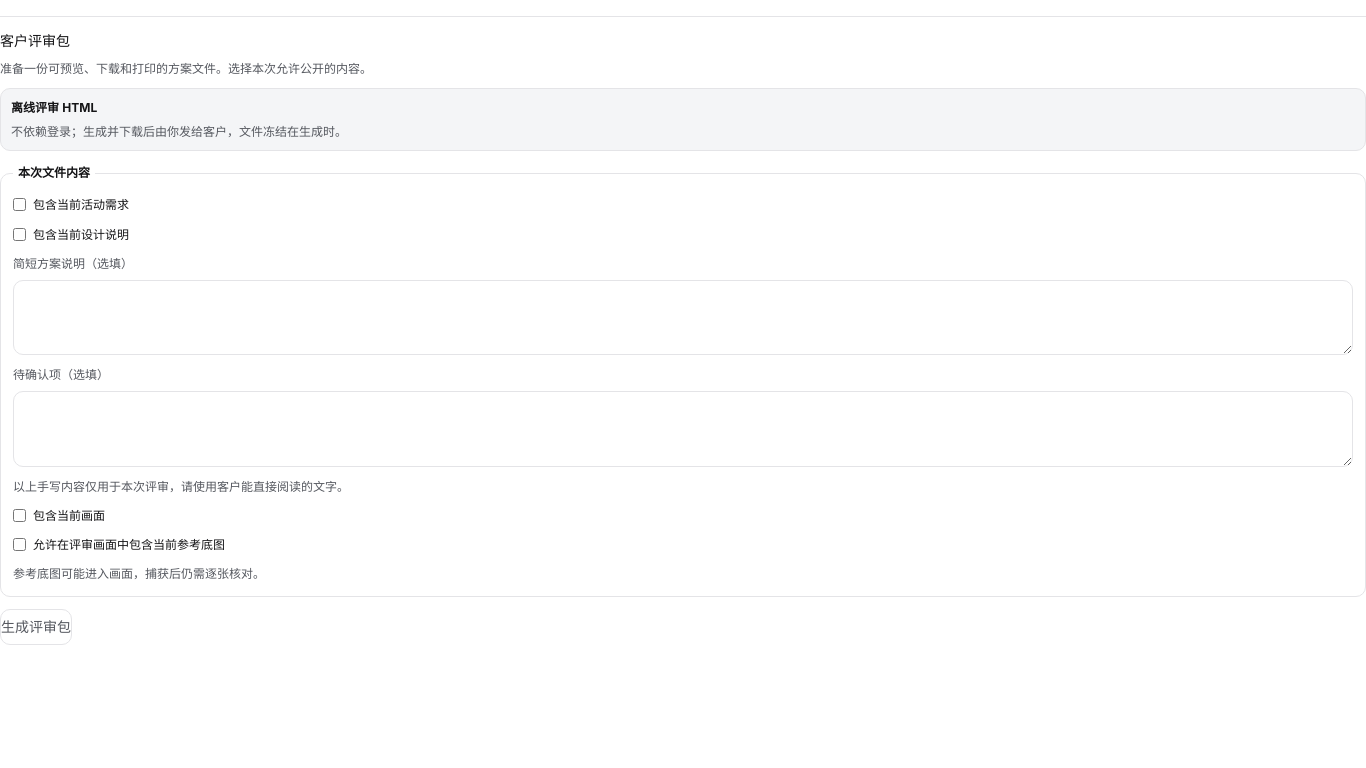
it: independent customer review panel › invalidates the old file when summary changes
Click the button "生成评审包".
click(36, 627)  # box left=0, top=609, right=72, bottom=645
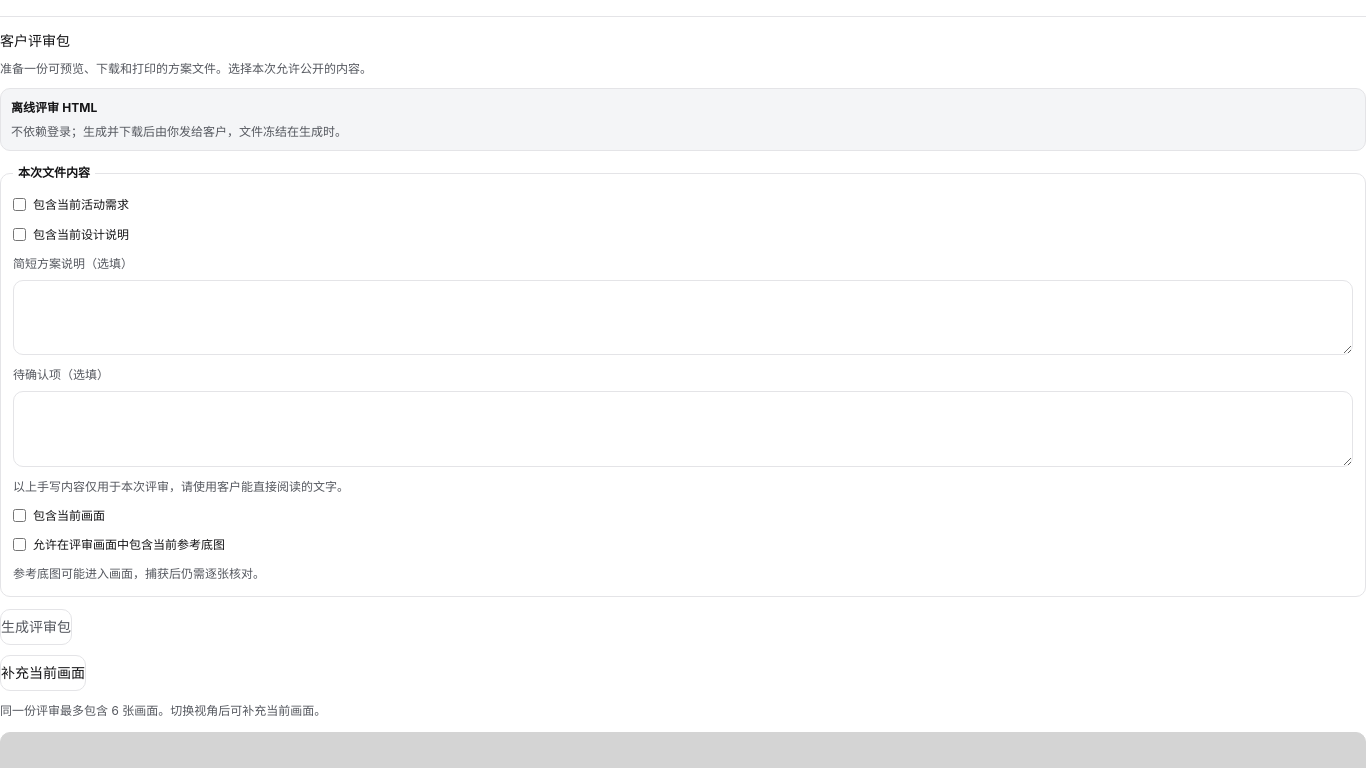
Type "新内容" into the text box labelled "简短方案说明（选填）".
click(683, 318); type("新内容")  # box left=13, top=280, right=1353, bottom=355
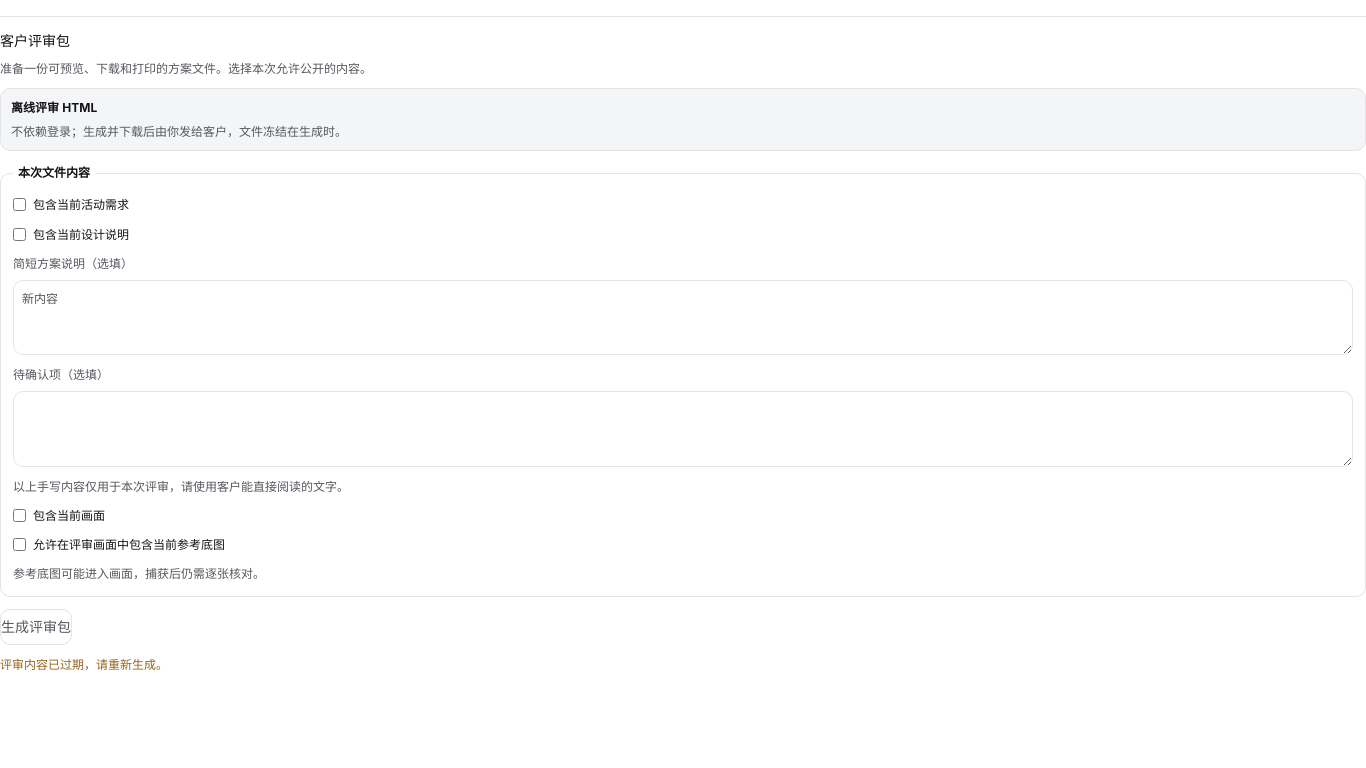
Now the text "评审内容已过期，请重新生成。" is shown, box left=0, top=657, right=168, bottom=672
